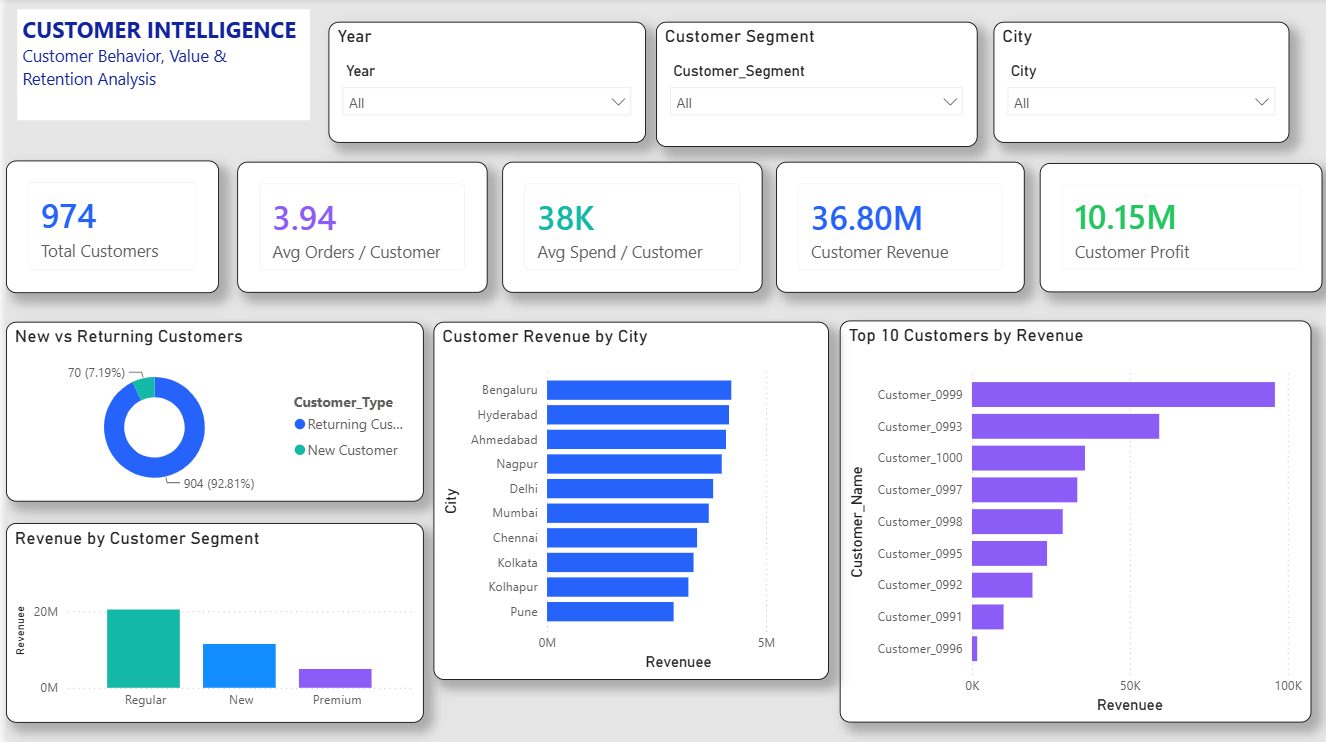

What the dashboard file says about the page in this screenshot:
{"tool":"powerbi","page":{"name":"👥 Customer Intelligence","canvas":[1280,720],"ordinal":1},"visuals":[{"type":"textbox","box":[11,11,282.7,107],"z":0},{"type":"slicer","title":"Year","fields":{"Values":["DateTable.Year"]},"box":[311.5,23.3,306,116.6],"z":1000},{"type":"slicer","title":"City","fields":{"Values":["Customers.City"]},"box":[953.7,23.3,285.4,116.6],"z":2000},{"type":"slicer","title":"Customer Segment","fields":{"Values":["Customers.Customer_Segment"]},"box":[627.1,23.3,310.1,120.8],"z":3000},{"type":"cardVisual","title":"Total Customers","fields":{"Data":["Orders.Customers Count"]},"box":[0,156.4,205.8,127.6],"z":4000},{"type":"cardVisual","title":"Total Customers","fields":{"Data":["Orders.Avg Orders per Customer"]},"box":[223.7,157.8,241.5,126.2],"z":5000},{"type":"cardVisual","title":"Total Customers","fields":{"Data":["Orders.Avg Customer Spend"]},"box":[478.9,157.8,251.1,126.2],"z":6000},{"type":"cardVisual","title":"Total Customers","fields":{"Data":["Orders.Revenuee"]},"box":[743.7,157.8,240.1,126.2],"z":7000},{"type":"cardVisual","title":"Total Customers","fields":{"Data":["Orders.Profitt"]},"box":[997.6,159.2,273.1,124.9],"z":8000},{"type":"donutChart","title":"New vs Returning Customers","fields":{"Category":["Customers.Customer_Type"],"Y":["Customers.Active Customers"]},"box":[0,312.5,403,173.7],"z":9000},{"type":"clusteredBarChart","title":"Top 10 Customers by Revenue","fields":{"Category":["Customers.Customer_Name"],"Y":["Orders.Revenuee"]},"box":[804.1,311.5,455.6,388.3],"z":10000},{"type":"clusteredColumnChart","title":"Revenue by Customer Segment","fields":{"Category":["Customers.Customer_Segment"],"Y":["Orders.Revenuee"]},"box":[0,506.7,403,193],"z":11000},{"type":"clusteredBarChart","title":"Customer Revenue by City","fields":{"Category":["Customers.City"],"Y":["Orders.Revenuee"]},"box":[413,312.9,381.5,345.8],"z":12000}]}

Visuals, with their boxes in screenshot pixels (x1, y1, x2, y2), scaled from the page's 1280x720 canvas onto the 1326x742 screenshot:
textbox: rect(11, 11, 304, 122)
"Year" slicer: rect(323, 24, 640, 144)
"City" slicer: rect(988, 24, 1284, 144)
"Customer Segment" slicer: rect(650, 24, 971, 149)
"Total Customers" cardVisual: rect(0, 161, 213, 293)
"Total Customers" cardVisual: rect(232, 163, 482, 293)
"Total Customers" cardVisual: rect(496, 163, 756, 293)
"Total Customers" cardVisual: rect(770, 163, 1019, 293)
"Total Customers" cardVisual: rect(1033, 164, 1316, 293)
"New vs Returning Customers" donutChart: rect(0, 322, 417, 501)
"Top 10 Customers by Revenue" clusteredBarChart: rect(833, 321, 1305, 721)
"Revenue by Customer Segment" clusteredColumnChart: rect(0, 522, 417, 721)
"Customer Revenue by City" clusteredBarChart: rect(428, 322, 823, 679)
